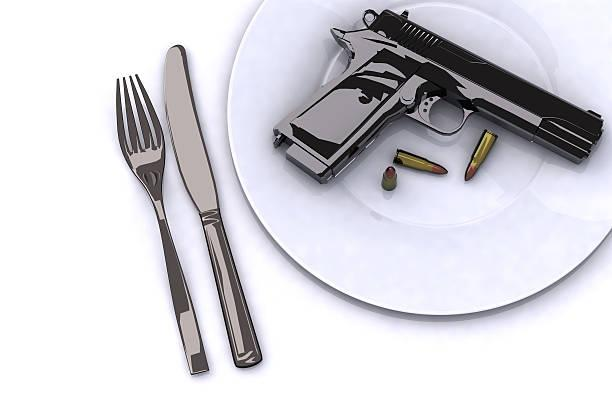knife: (157, 38, 267, 374)
weapon: (266, 4, 605, 183)
